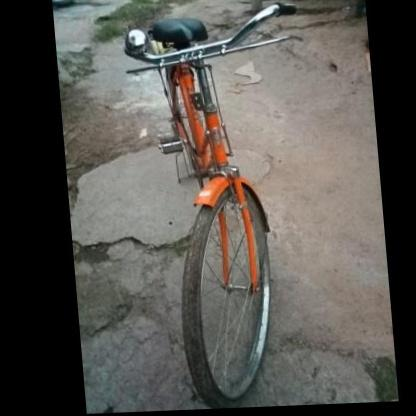Bicycle: (105, 0, 342, 402)
